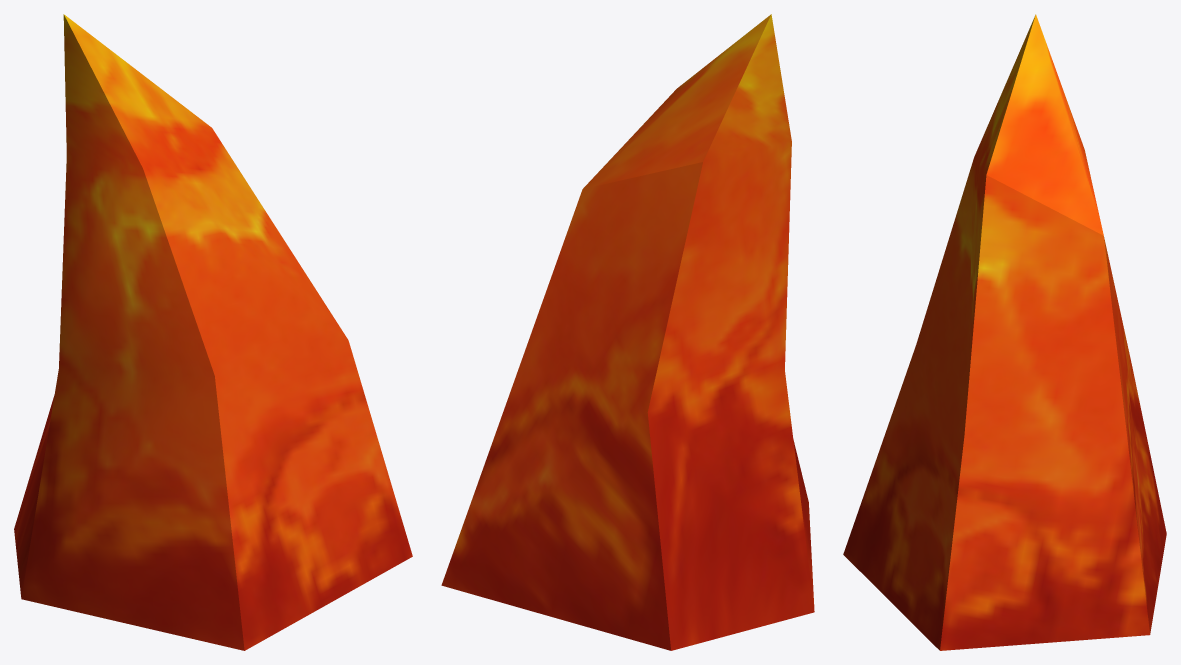
File: shitou01.FBX
3 renders of one model, left to right at view 1: azimuth 30°, elevation 25°; view 2: azimuth 150°, elevation 25°; view 3: azimuth 270°, elevation 25°, orthographic. The views are drawn at different scales.
Visible parts, largest first — view 1: shitou01; view 2: shitou01; view 3: shitou01.
Boxes of the visible parts, <box> form: shitou01: <box>14,14,412,650</box>; shitou01: <box>441,14,814,650</box>; shitou01: <box>843,14,1166,650</box>.
Size of the model in its own units: 148 by 241 by 139.
